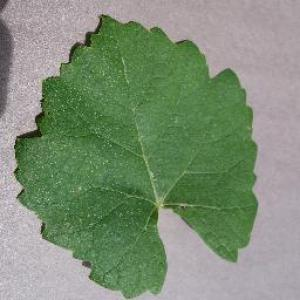Folha: (13, 13, 258, 299)
